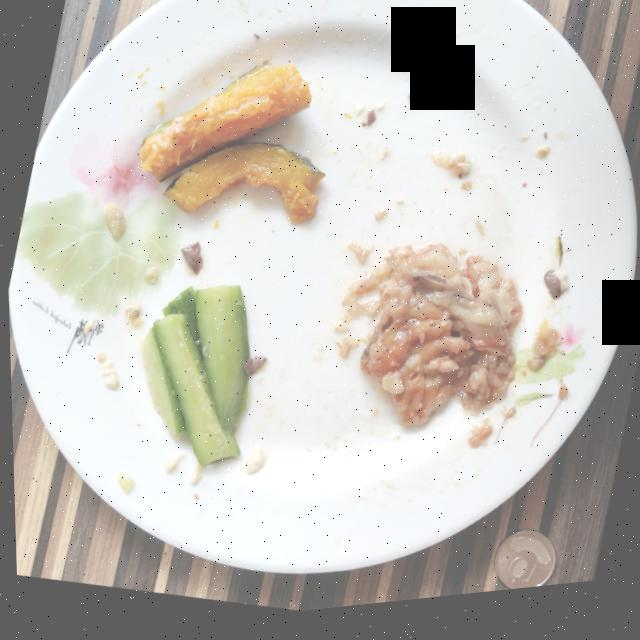Kabayaki sea bream fillet: (347, 253, 519, 434)
coin: (490, 541, 550, 600)
cucumber: (139, 289, 246, 470)
pumpkin: (137, 67, 322, 230)
